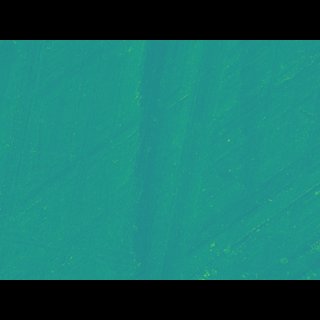Loch: (111, 69, 228, 249), (0, 211, 274, 251), (227, 69, 286, 228)
